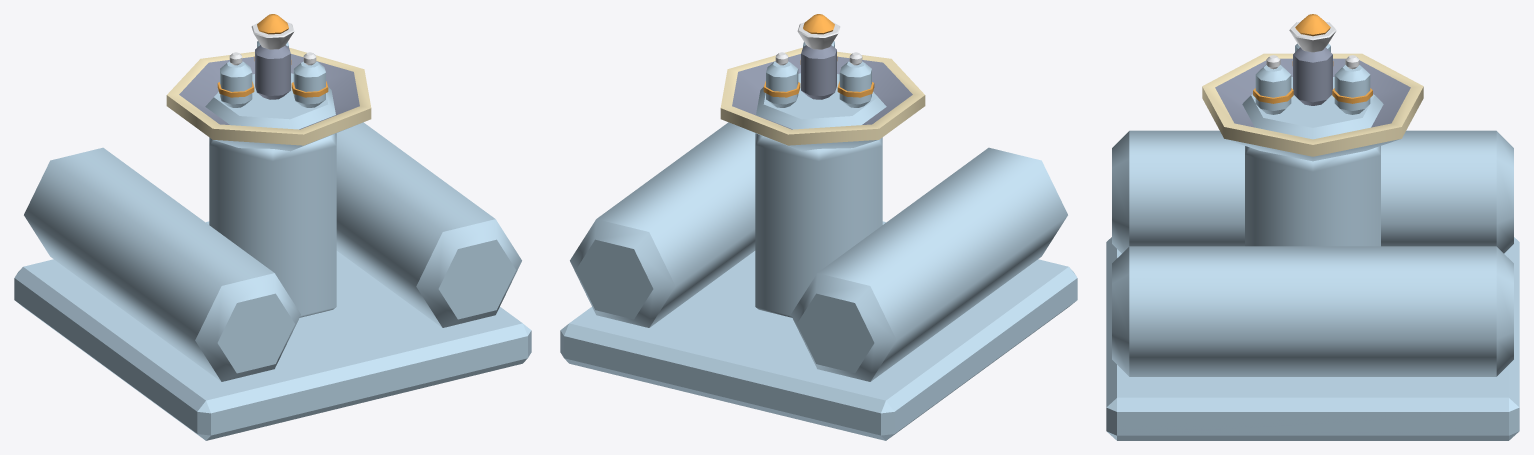
File: R4X_BurnTrapDeployer_LOD1.glb
3 renders of one model, left to right at view 1: azimuth 30°, elevation 25°; view 2: azimuth 150°, elevation 25°; view 3: azimuth 270°, elevation 25°, orthographic. The views are drawn at different scales.
Parts seen in each view (by area): view 1: R4X_BurnTrapDeployer_LOD1; view 2: R4X_BurnTrapDeployer_LOD1; view 3: R4X_BurnTrapDeployer_LOD1.
Part boxes in pixels (x1=…): R4X_BurnTrapDeployer_LOD1: x1=14, y1=14, x2=531, y2=440; R4X_BurnTrapDeployer_LOD1: x1=560, y1=14, x2=1077, y2=440; R4X_BurnTrapDeployer_LOD1: x1=1106, y1=14, x2=1519, y2=440.
Bounding box in the file's own units: 0.52 × 0.476 × 0.52.
